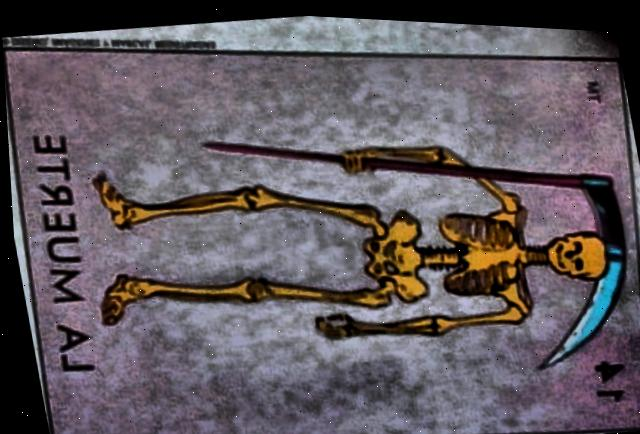La Muerte: (4, 50, 640, 434)
